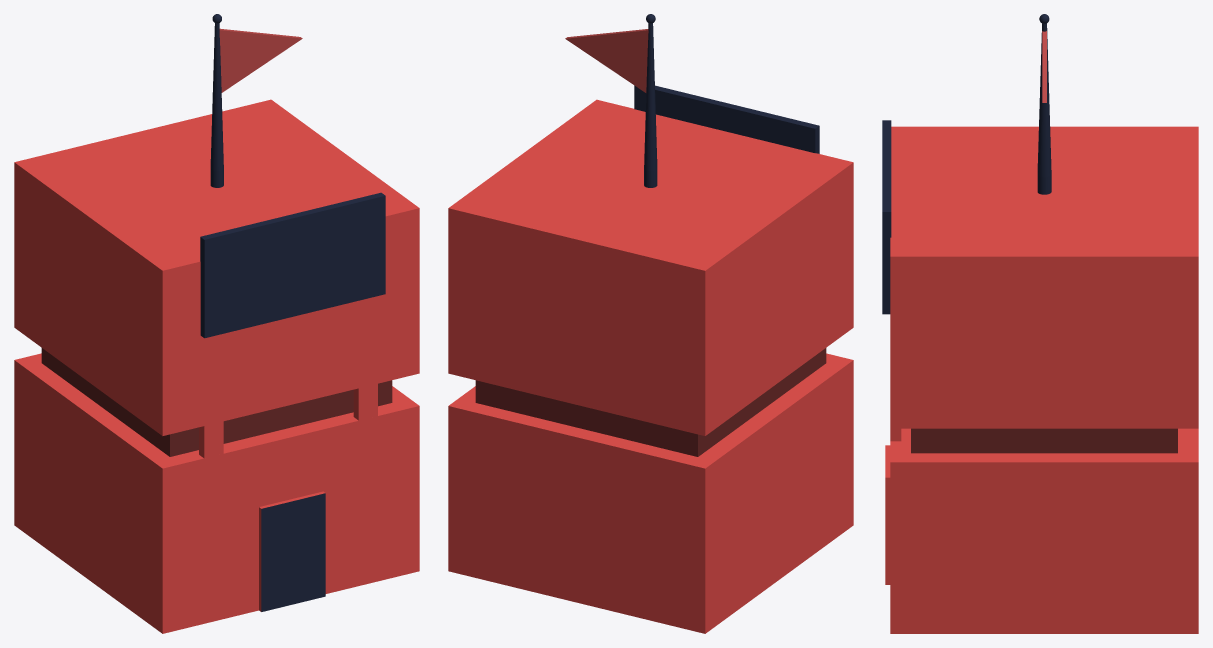
File: kale.fbx
3 renders of one model, left to right at view 1: azimuth 30°, elevation 25°; view 2: azimuth 150°, elevation 25°; view 3: azimuth 270°, elevation 25°, orthographic. The views are drawn at different scales.
Visible parts, largest first — view 1: Cube.002, Cube, Cube.003, Cube.005, Cube.001, Circle, Cylinder, Cube.004; view 2: Cube.002, Cube, Cube.001, Cube.003, Circle, Cylinder; view 3: Cube.002, Cube, Cube.001, Cube.003, Cylinder.
Boxes of the visible parts, x1=… form: Cube.002: x1=14, y1=99, x2=419, y2=435; Cube: x1=14, y1=353, x2=419, y2=633; Cube.003: x1=200, y1=192, x2=385, y2=338; Cube.005: x1=261, y1=493, x2=325, y2=611; Cube.001: x1=41, y1=348, x2=392, y2=456; Circle: x1=219, y1=28, x2=302, y2=92; Cylinder: x1=210, y1=23, x2=223, y2=187; Cube.004: x1=199, y1=383, x2=377, y2=458; Cube.002: x1=448, y1=99, x2=853, y2=435; Cube: x1=448, y1=353, x2=853, y2=633; Cube.001: x1=475, y1=348, x2=826, y2=456; Cube.003: x1=634, y1=85, x2=819, y2=153; Circle: x1=565, y1=29, x2=648, y2=92; Cylinder: x1=644, y1=23, x2=657, y2=187; Cube.002: x1=890, y1=126, x2=1198, y2=428; Cube: x1=885, y1=428, x2=1198, y2=633; Cube.001: x1=911, y1=428, x2=1177, y2=453; Cube.003: x1=882, y1=120, x2=891, y2=314; Cylinder: x1=1037, y1=23, x2=1051, y2=194.
Bounding box in the file's own units: 2 × 3.97 × 2.05.
